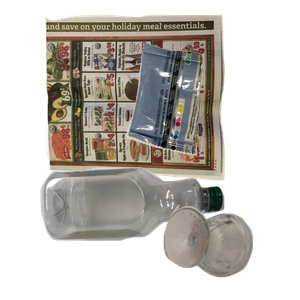glass: (161, 202, 300, 300)
paper: (42, 12, 260, 185)
plastic: (38, 165, 255, 300)
trash: (124, 40, 300, 188)
